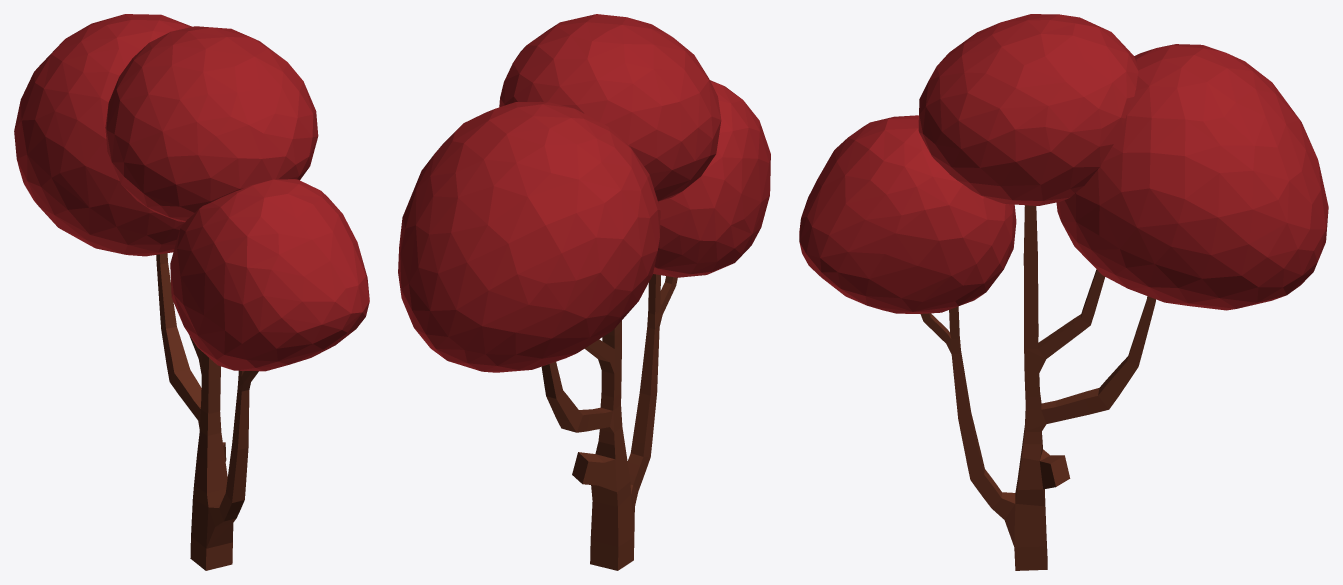
Rendered from MediumRedTree.fbx.
3 renders of one model, left to right at view 1: azimuth 30°, elevation 25°; view 2: azimuth 150°, elevation 25°; view 3: azimuth 270°, elevation 25°, orthographic. The views are drawn at different scales.
Visible parts, largest first — view 1: Icosphere.001; view 2: Icosphere.001; view 3: Icosphere.001.
Boxes of the visible parts, box(x1,y1,x2,y2) form: Icosphere.001: box(14, 14, 369, 570); Icosphere.001: box(398, 14, 770, 570); Icosphere.001: box(799, 14, 1328, 570).
Bounding box in the file's own units: 81.95 × 190 × 169.
